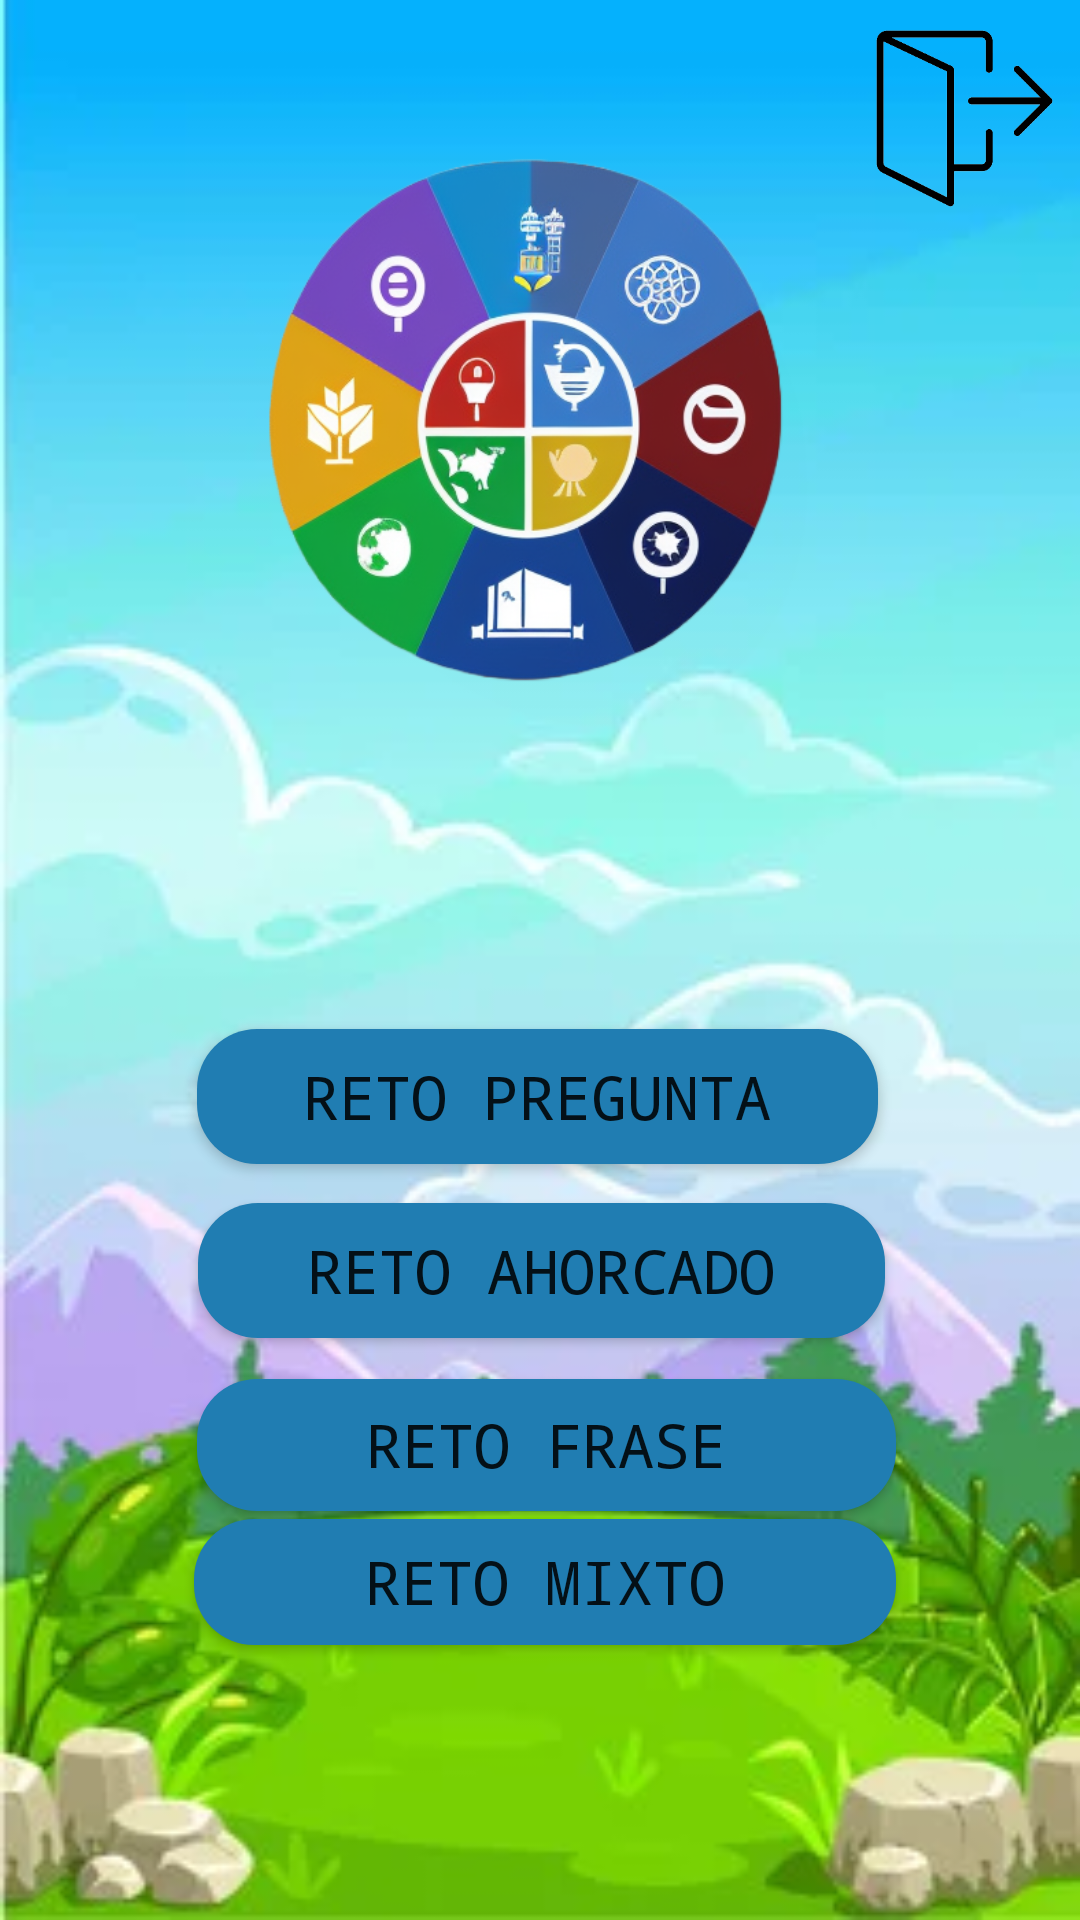

Point at icon controls on the screen. Image size 1080 x 1920, points as (x,y).
abandonar: (964,118)
